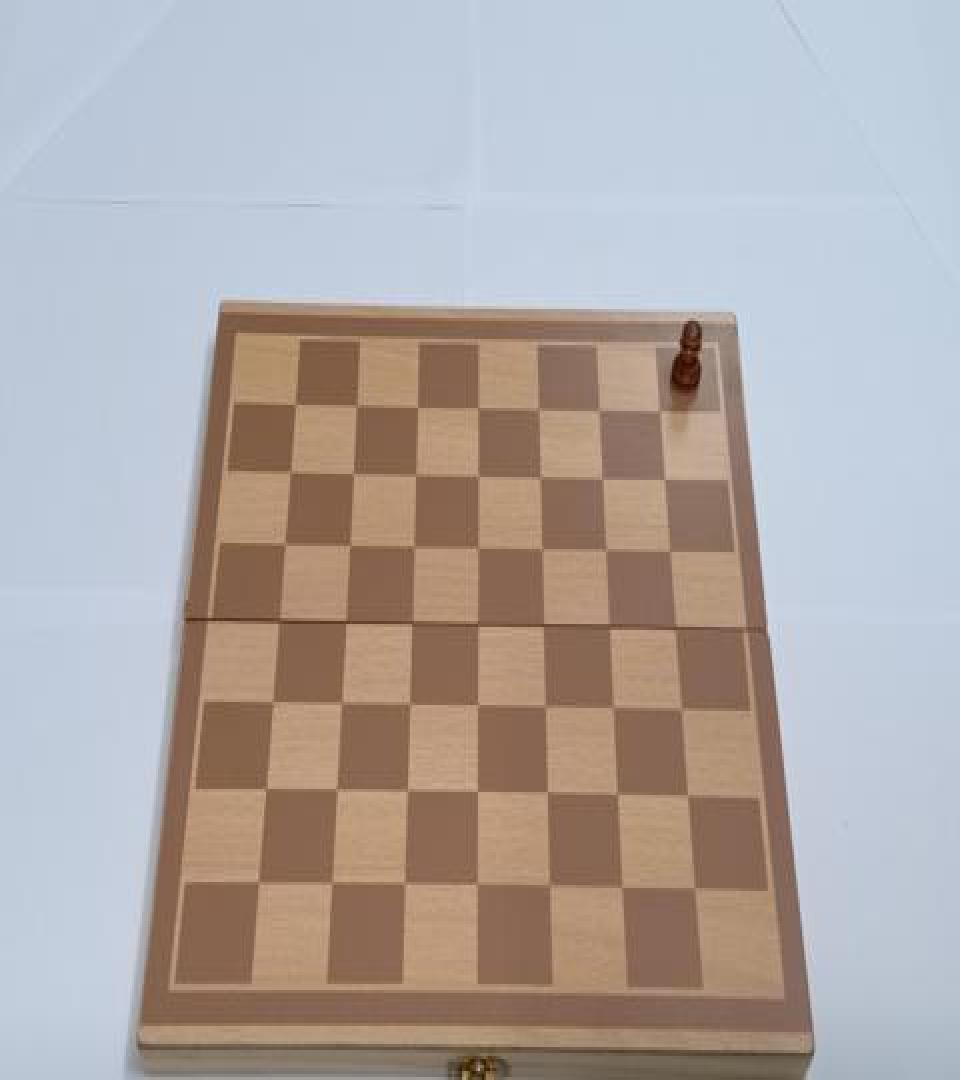xcorner: (282, 460, 300, 488), (344, 460, 362, 488), (408, 394, 426, 422), (603, 694, 621, 722), (654, 466, 672, 494), (671, 694, 689, 722), (287, 393, 305, 420), (276, 532, 294, 559), (269, 609, 287, 636), (263, 690, 281, 717), (256, 777, 274, 804), (248, 868, 266, 895), (348, 393, 366, 420), (340, 532, 358, 559), (335, 609, 353, 636), (331, 690, 349, 717), (326, 777, 344, 804), (321, 870, 339, 897), (406, 462, 424, 489), (404, 534, 422, 561), (402, 610, 420, 637), (396, 778, 414, 805), (394, 870, 412, 897), (469, 396, 487, 423), (468, 612, 486, 639), (467, 693, 485, 720), (467, 778, 485, 805), (529, 396, 547, 423), (533, 612, 551, 639), (535, 693, 553, 720), (537, 780, 555, 807), (589, 397, 607, 424), (592, 465, 610, 492), (596, 537, 614, 564), (607, 780, 625, 807), (611, 873, 629, 900), (649, 399, 667, 426), (659, 538, 677, 565), (684, 873, 702, 900), (399, 692, 417, 718), (468, 464, 486, 490), (468, 536, 486, 562), (466, 872, 484, 898), (530, 464, 548, 490), (532, 536, 550, 562), (539, 872, 557, 898), (599, 614, 617, 640), (665, 614, 683, 640), (677, 782, 695, 808)
